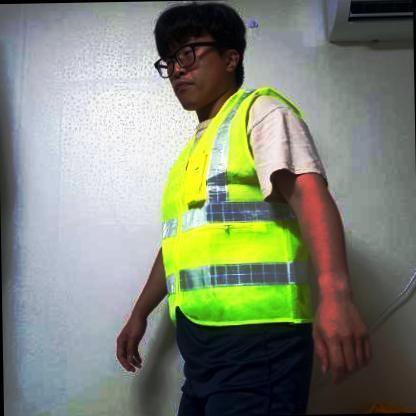no-helmet: (150, 0, 258, 75)
vest: (155, 85, 303, 332)
